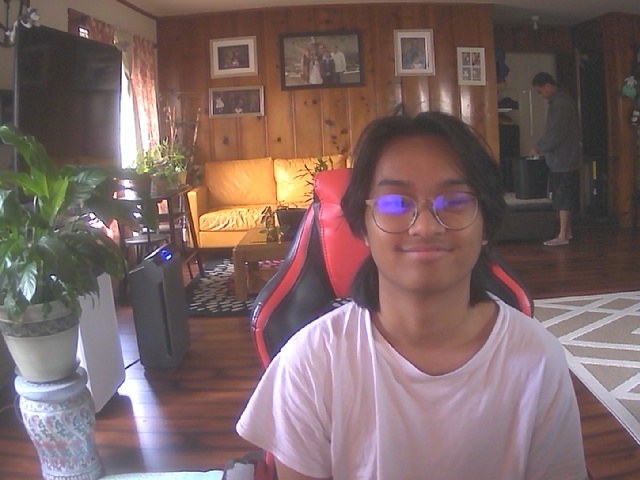happy: (358, 116, 493, 296)
